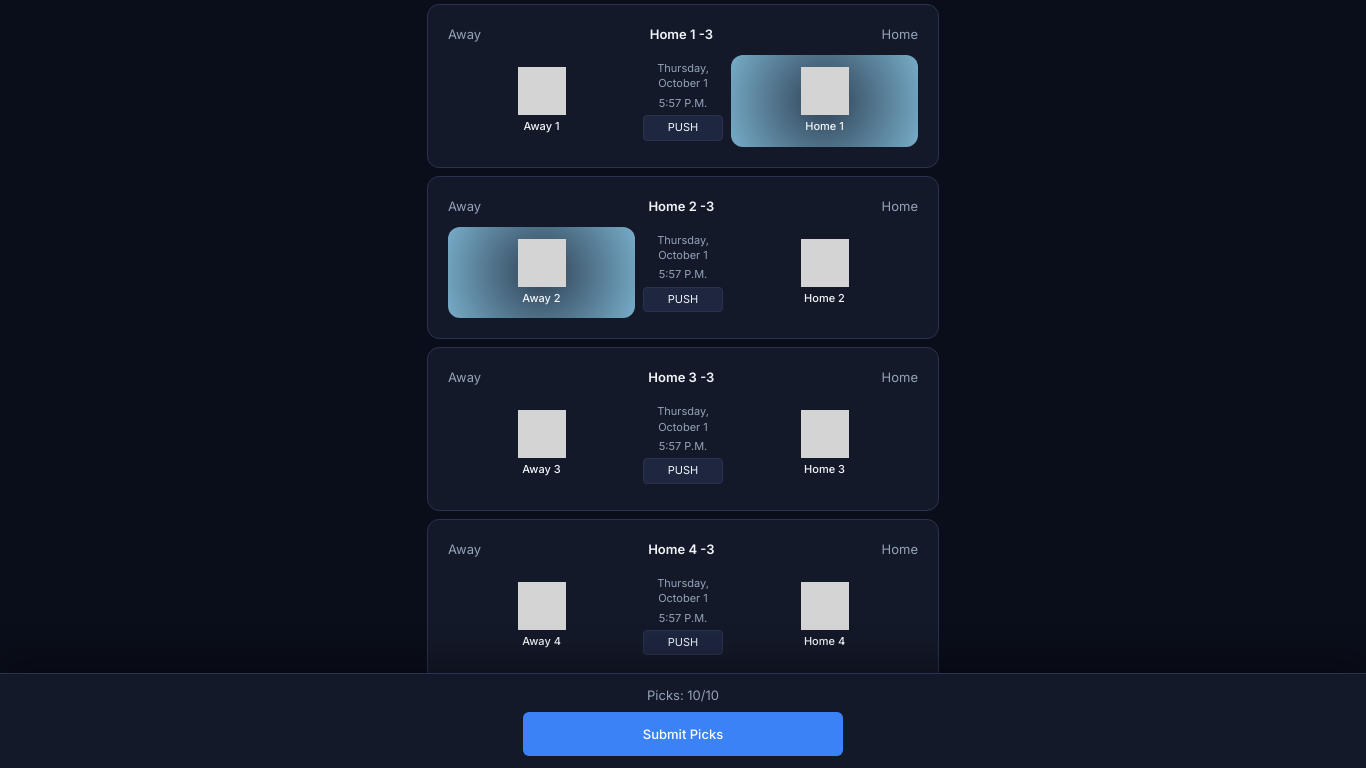
Scenario: submitting saves the picks and offers the profile link
Expected: the text "Picks: 10/10" is shown, [647,686,719,704]
Click the button "Submit Picks" at (683, 734), box [523,712,843,756]
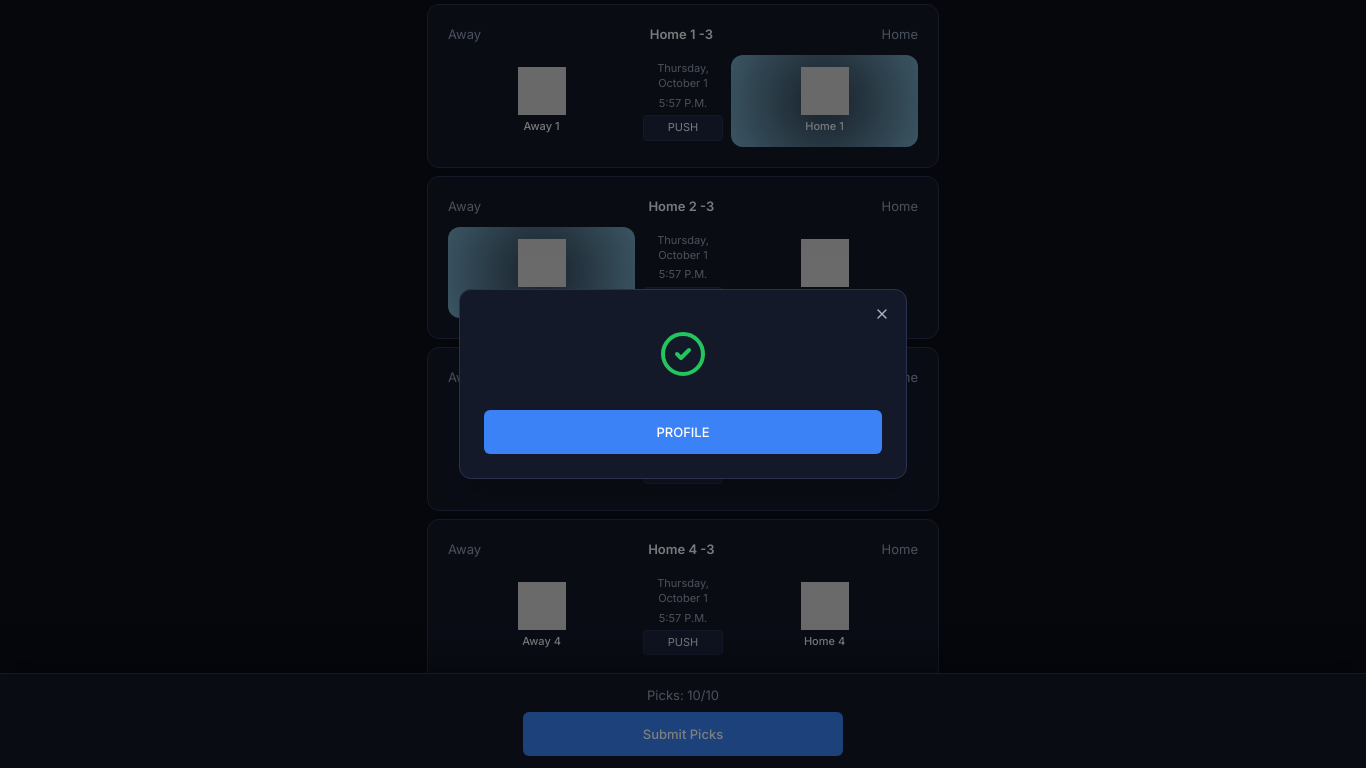
Expected: the button "PROFILE" is shown, [484,410,882,454]
